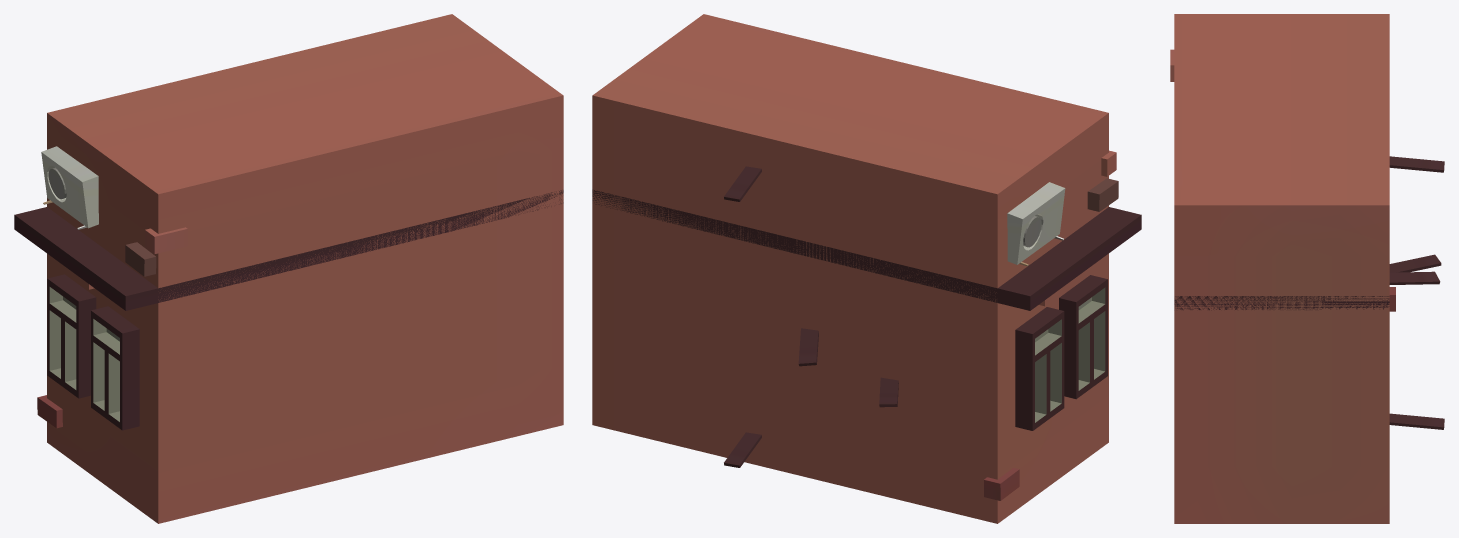
Rendered from Building_05.fbx.
The picture shows the model from 3 angles, left to right: view 1: azimuth 30°, elevation 25°; view 2: azimuth 150°, elevation 25°; view 3: azimuth 270°, elevation 25°; orthographic projection. The views are drawn at different scales.
Visible parts, largest first — view 1: building, AC_unit_Big; view 2: building, AC_unit_Big, gap_filler; view 3: building, gap_filler.
Boxes of the visible parts, box(x1,y1,x2,y2) form: building: box(14, 14, 563, 523); AC_unit_Big: box(41, 146, 98, 229); building: box(592, 14, 1141, 523); AC_unit_Big: box(1007, 182, 1065, 266); gap_filler: box(724, 166, 898, 467); building: box(1170, 14, 1395, 523); gap_filler: box(1389, 156, 1444, 429).
Bounding box in the file's own units: 1131 × 814 × 635.
